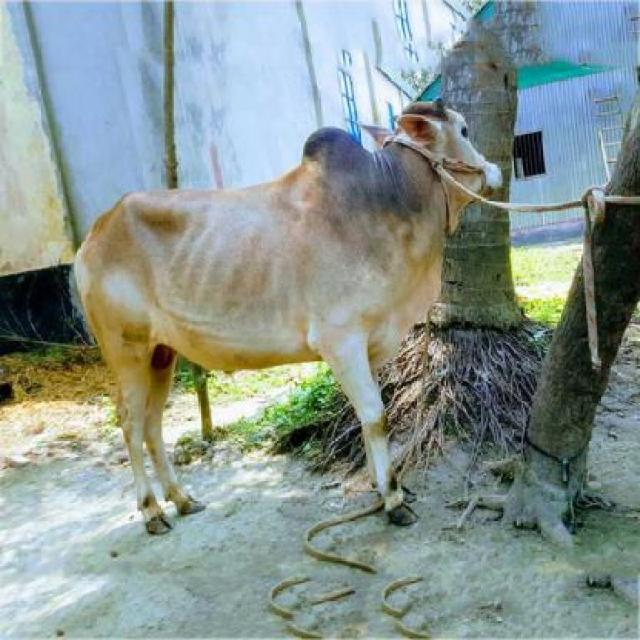Cow: (79, 96, 502, 546)
